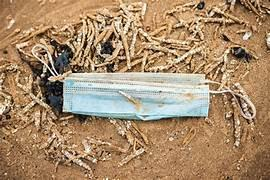Mask: (32, 44, 255, 119), (63, 73, 208, 119)
